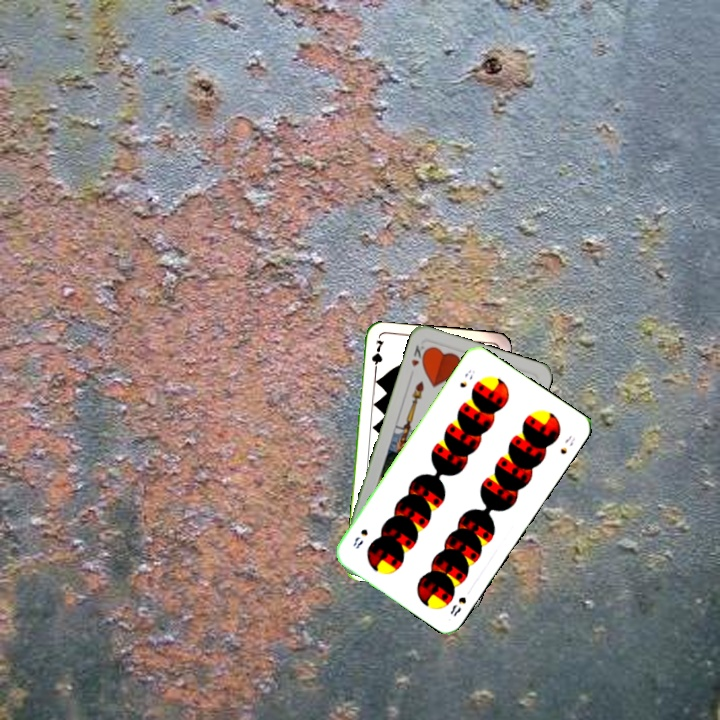G7: (368, 336, 386, 377)
HK: (407, 341, 430, 369)
S8: (446, 593, 469, 619), (456, 366, 477, 390)
